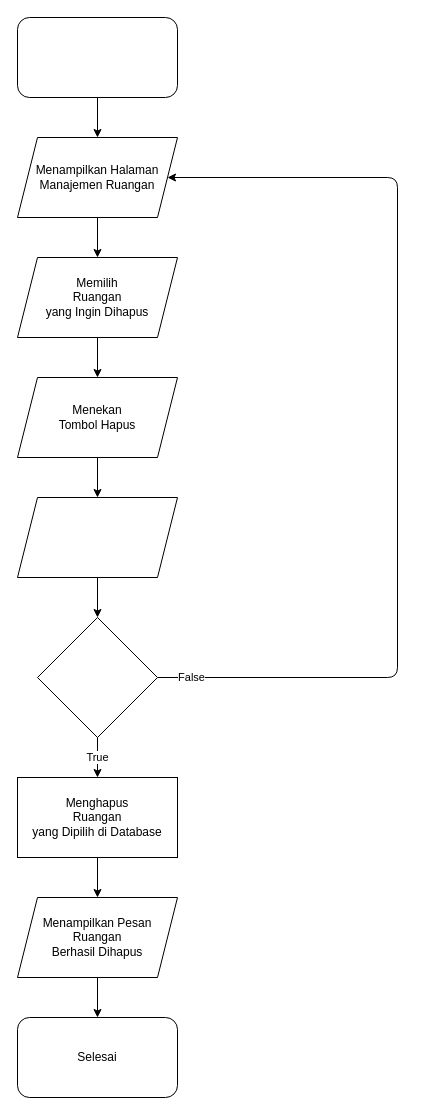
The diagram is 423 pixels wide and 1115 high, and some of its shapes have lost their labels. The shapes that lost their labels are listed below. From the top down, each one's centre as x and y in pixels, then its label:
At point (97, 57): "Mulai".
At point (97, 537): "Meminta Konfirmasi".
At point (97, 677): "Konfirmasi Iya?".
